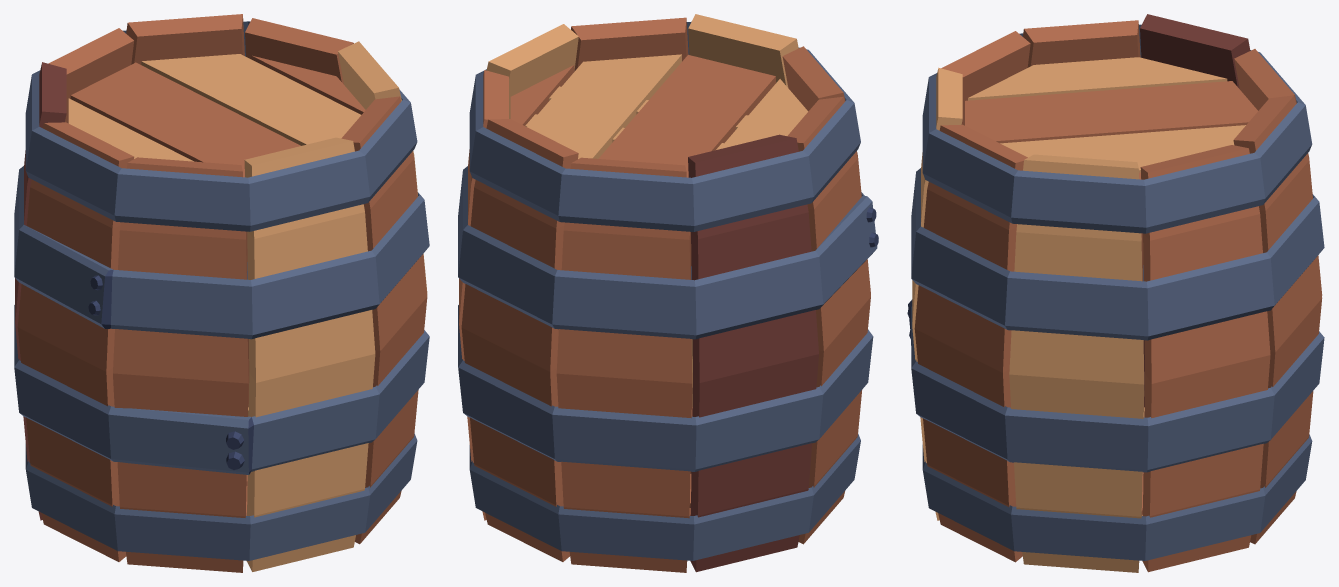
The model's file is Barrel 1_9.fbx.
The picture shows the model from 3 angles, left to right: view 1: azimuth 30°, elevation 25°; view 2: azimuth 150°, elevation 25°; view 3: azimuth 270°, elevation 25°; orthographic projection.
Parts seen in each view (by area): view 1: Barrel 1_9; view 2: Barrel 1_9; view 3: Barrel 1_9.
Part boxes in pixels (left/top/right/bottom): Barrel 1_9: left=14, top=14, right=429, bottom=572; Barrel 1_9: left=458, top=14, right=878, bottom=572; Barrel 1_9: left=907, top=14, right=1324, bottom=572.
Size of the model in its own units: 84.55 by 90.45 by 84.04.
